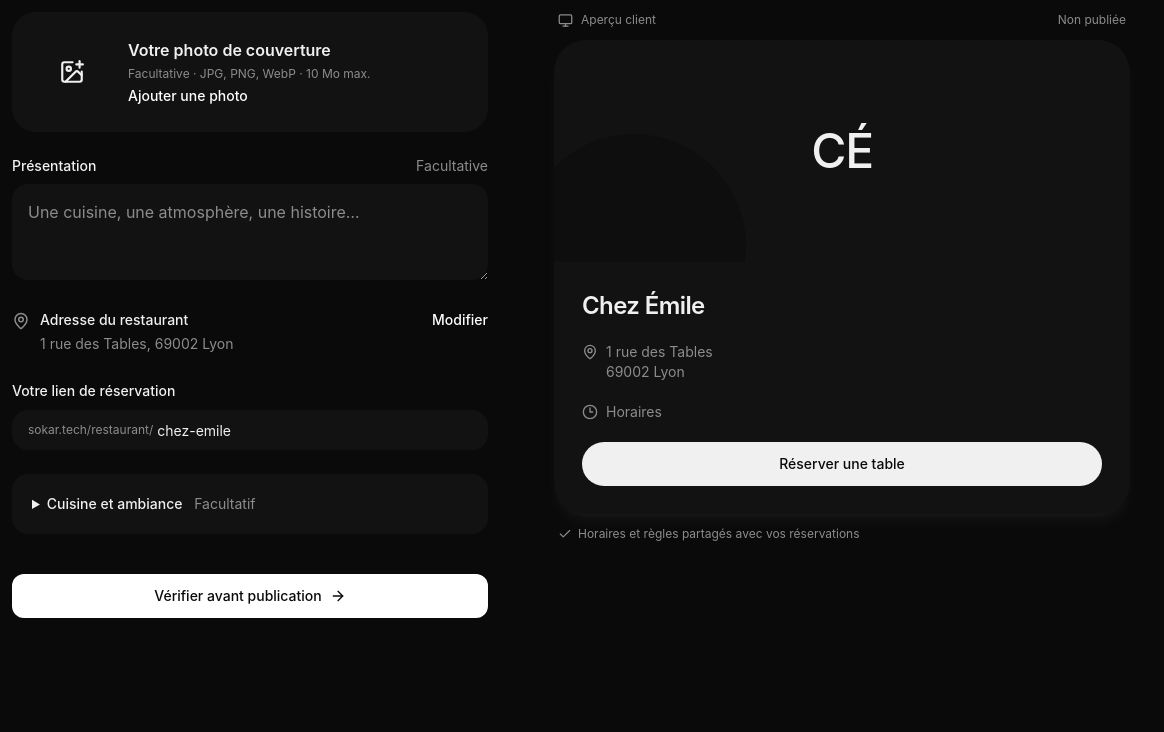
Test: n’avance pas si la complétion échoue après la sauvegarde
Click the button "Vérifier avant publication" at (250, 596), box [12,574,488,618]
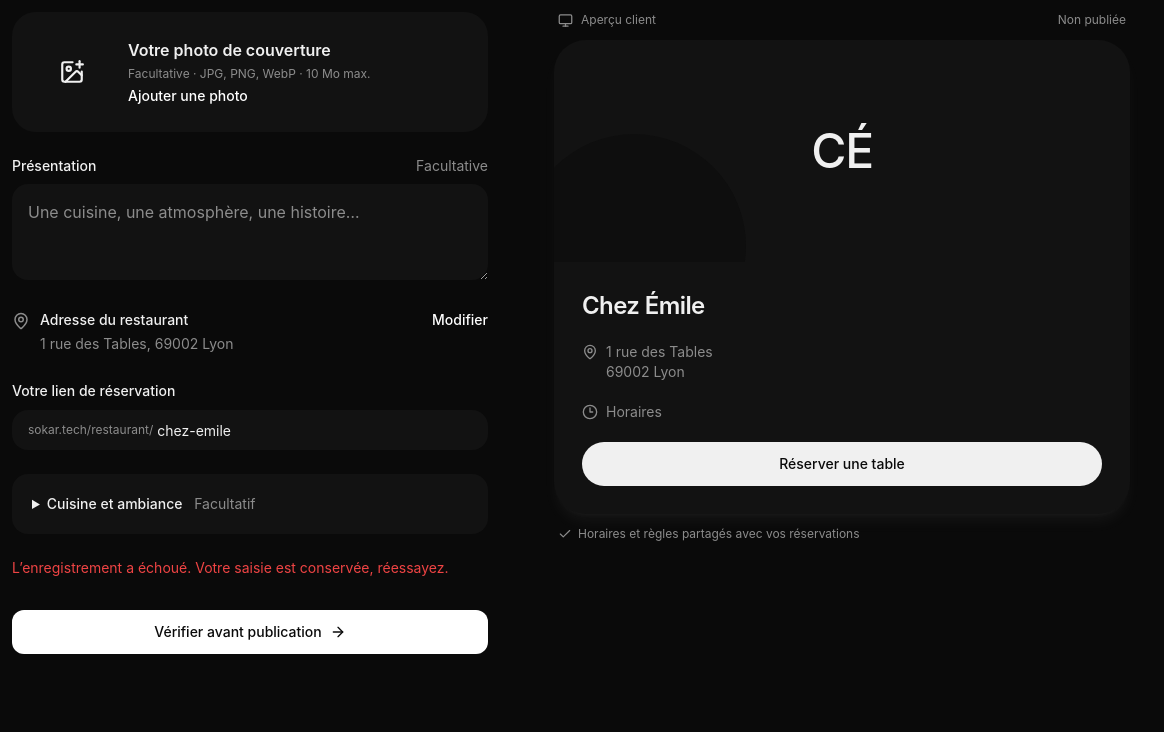
Check: the message shows "Votre saisie est conservée", box [12,559,448,576]
